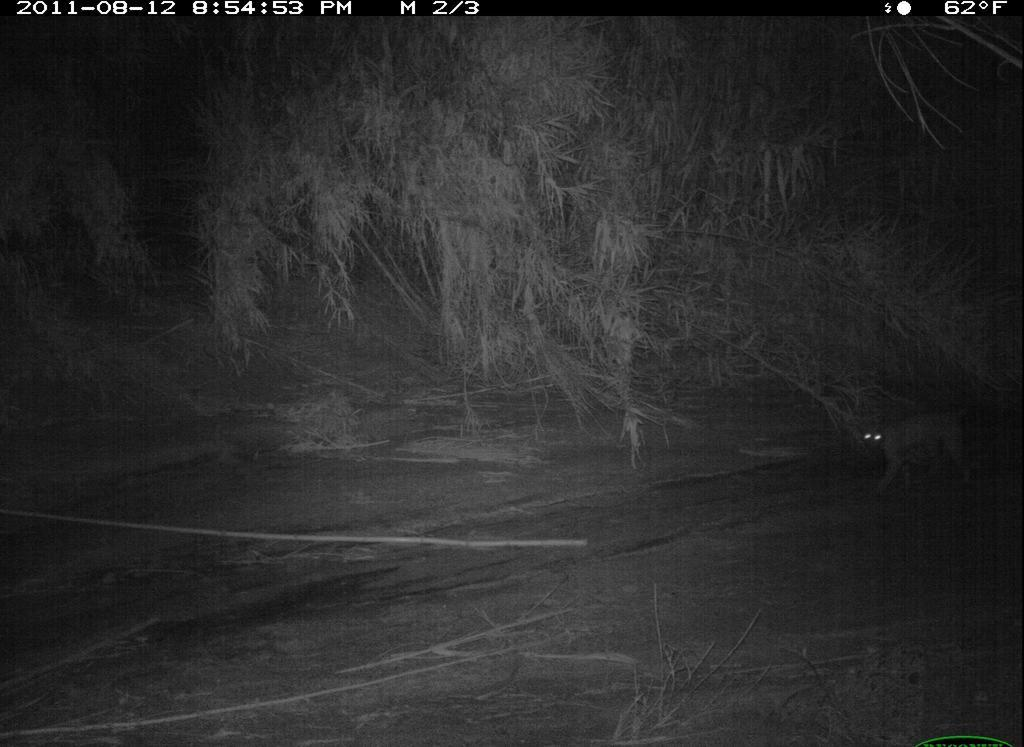bobcat: (845, 392, 995, 498)
